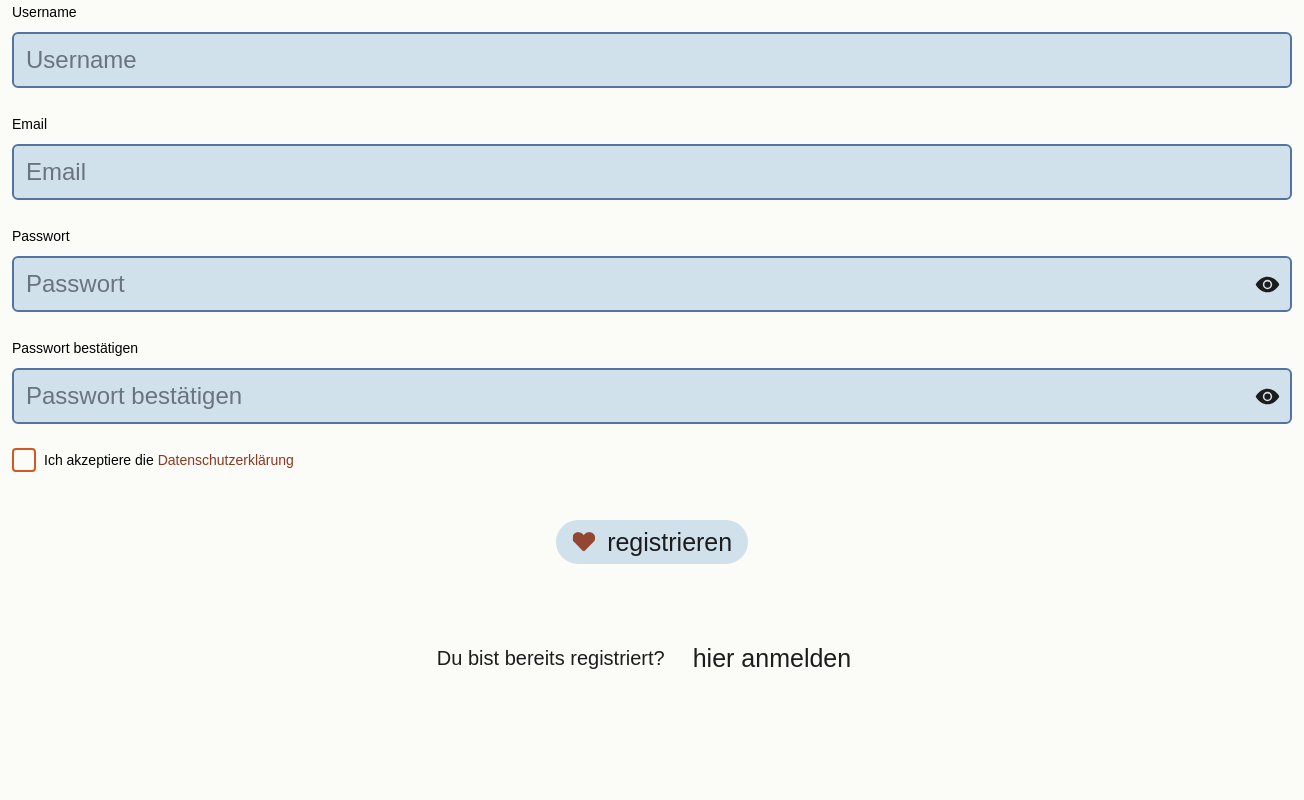
Test: RegisterForm › should show validation error when 'username' is missing
Click the checkbox labelled "Ich akzeptiere die Datenschutzerklärung". click: (24, 460)
box: [12,448,36,472]
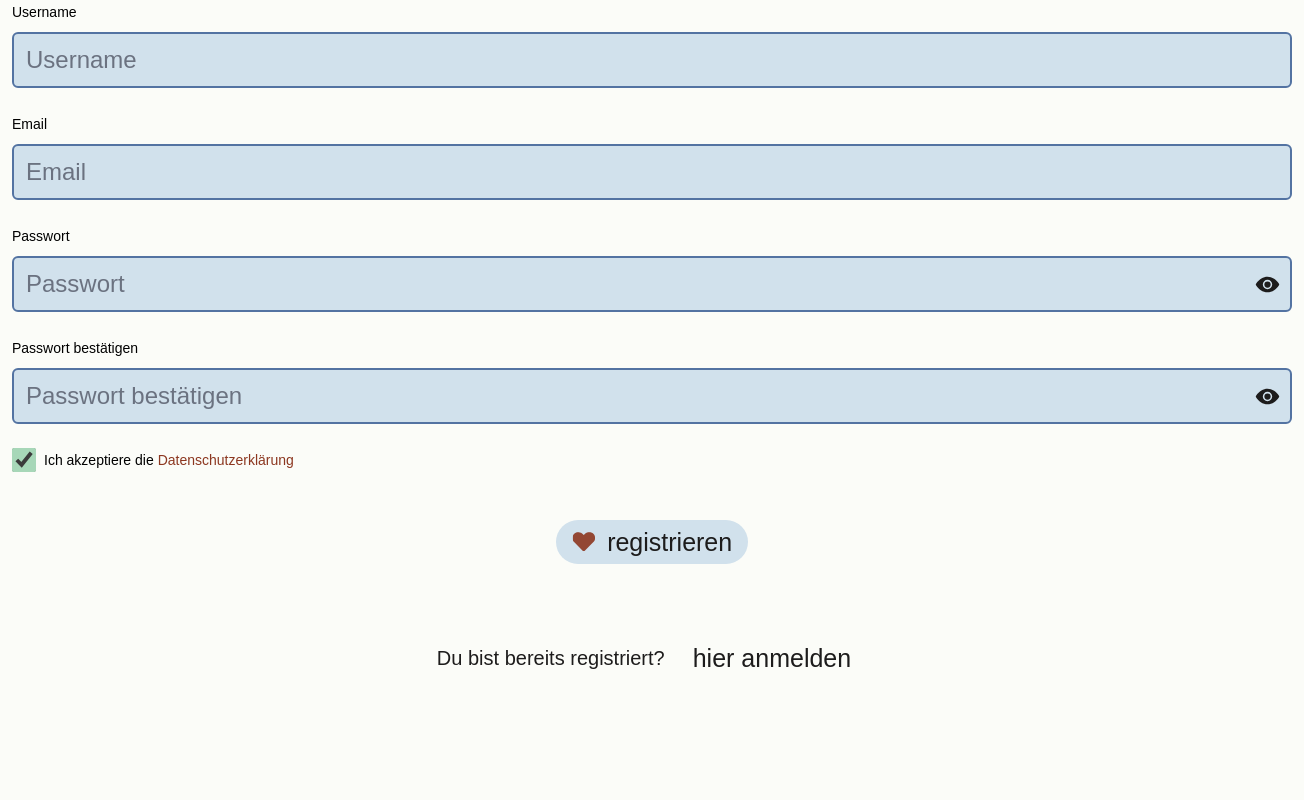
Click the button "registrieren". click: (652, 542)
box: [556,520,748,564]
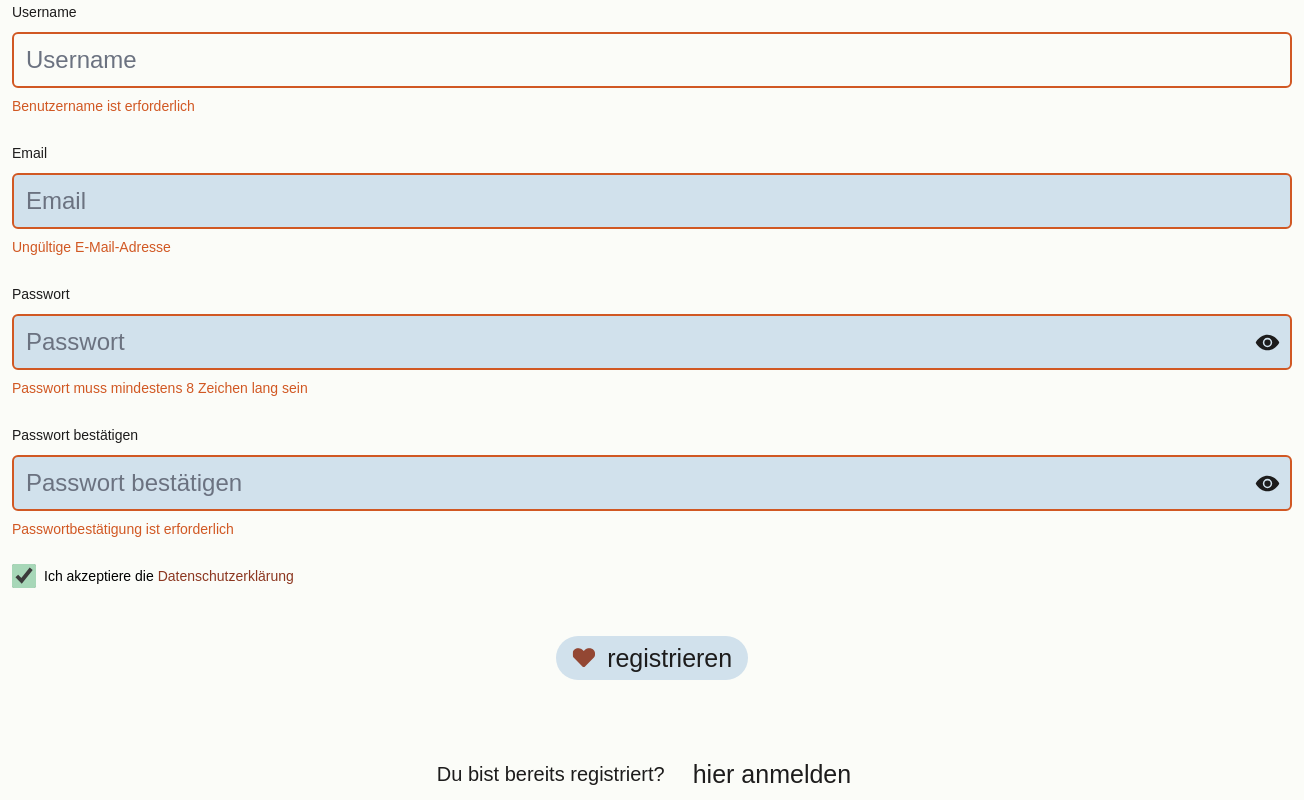
Now the text "Benutzername ist erforderlich" is shown, box [12,98,195,114]
Now the text "Ungültige E-Mail-Adresse" is shown, box [12,239,171,255]
Now the text "Passwort muss mindestens 8 Zeichen lang sein" is shown, box [12,380,308,396]
